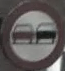No overtake: (8, 7, 60, 63)
